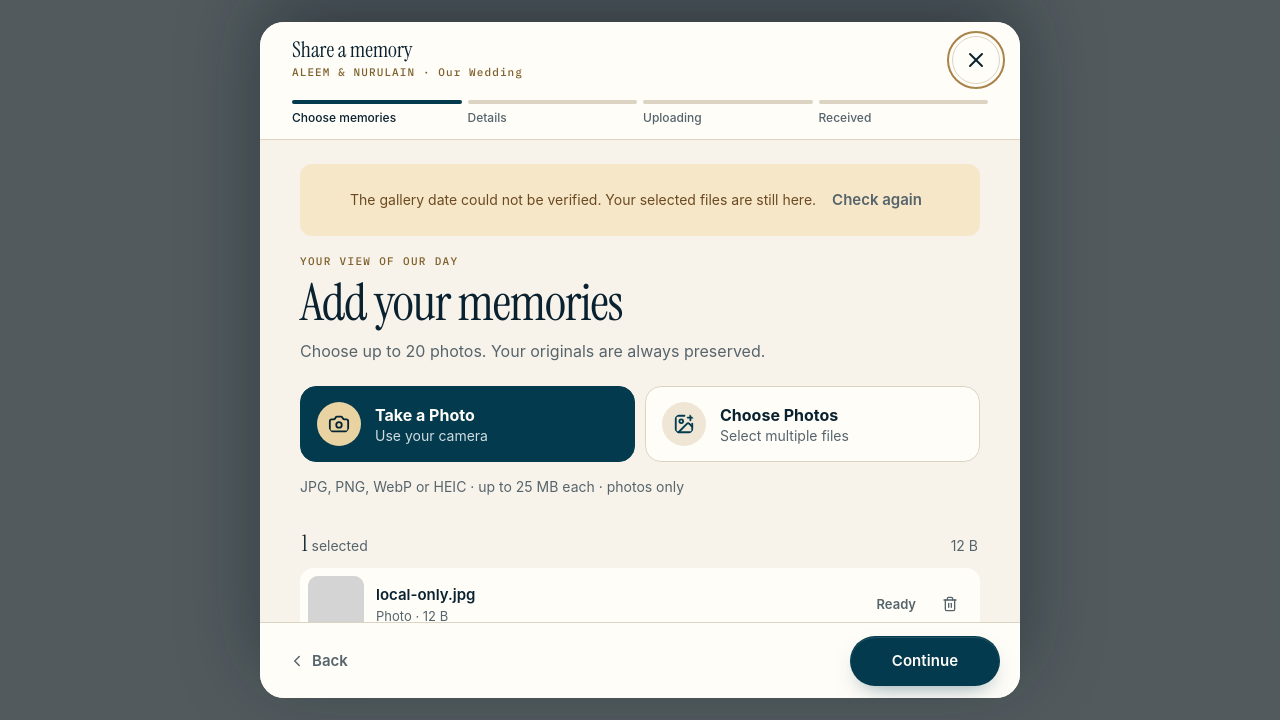
day-aware upload preparation › fails closed without discarding local files when visibility cannot be verified
Click the button "Continue" at x=925, y=661, box [850, 636, 1000, 686]
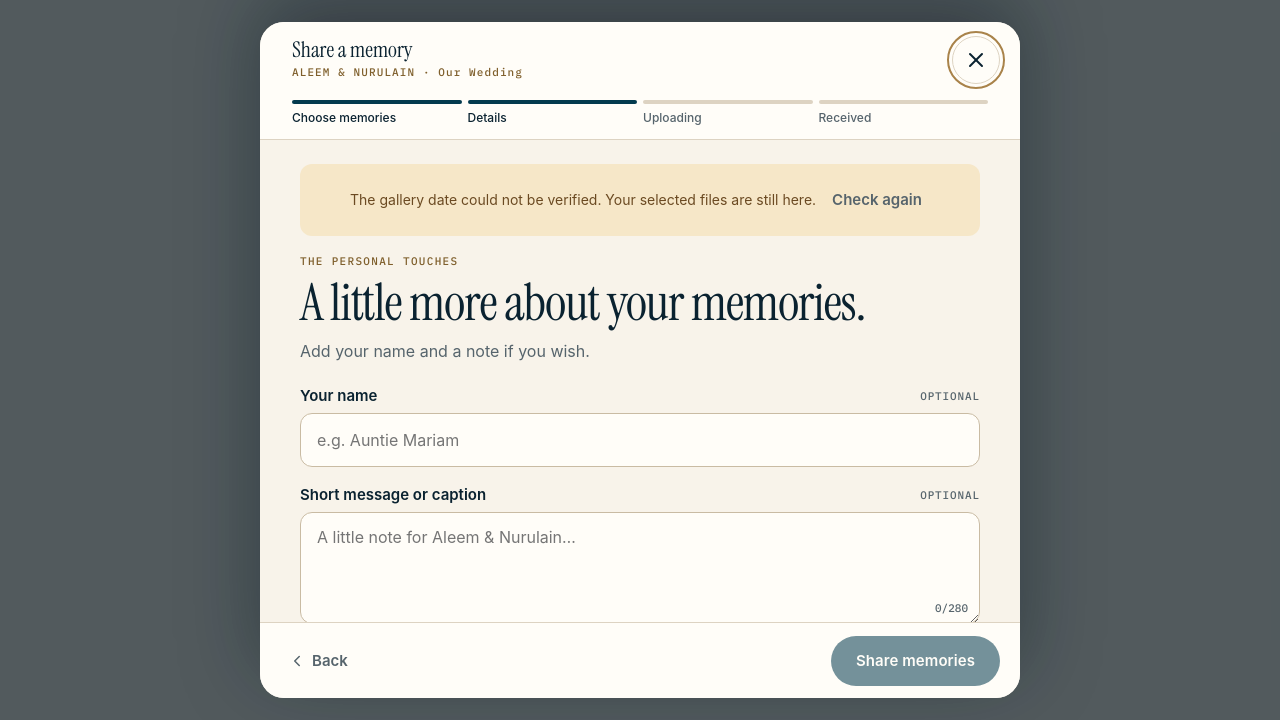
expect the message shows "selected files are still here": met, box [350, 191, 816, 208]
expect the heading "A little more about your memories." is shown: met, box [300, 277, 920, 329]
expect the button "Share memories" is disabled: met, box [831, 636, 1000, 686]
